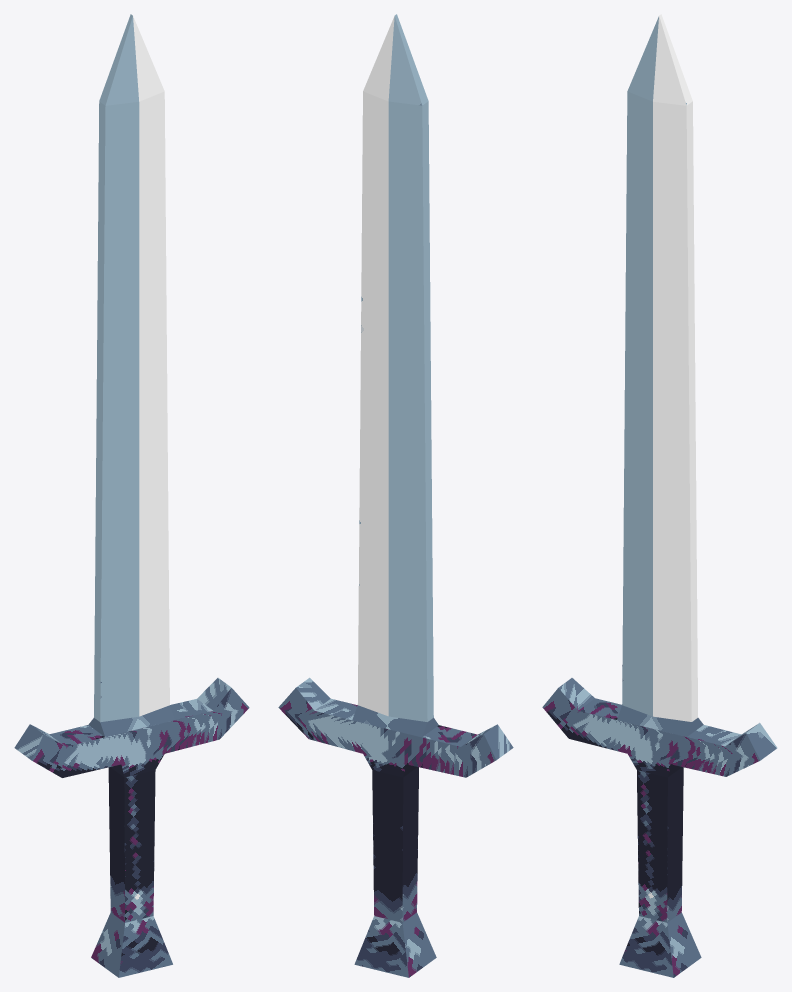
Rendered from sword4.glb.
3 renders of one model, left to right at view 1: azimuth 30°, elevation 25°; view 2: azimuth 150°, elevation 25°; view 3: azimuth 330°, elevation 25°, orthographic.
Parts seen in each view (by area): view 1: Sword; view 2: Sword; view 3: Sword.
Boxes of the visible parts, bbox=[...] form: Sword: bbox=[14, 14, 249, 977]; Sword: bbox=[278, 14, 513, 977]; Sword: bbox=[542, 14, 777, 977].
Size of the model in its own units: 4.03 by 16.71 by 0.8895.
Materials: 1 (1 with a texture image).
